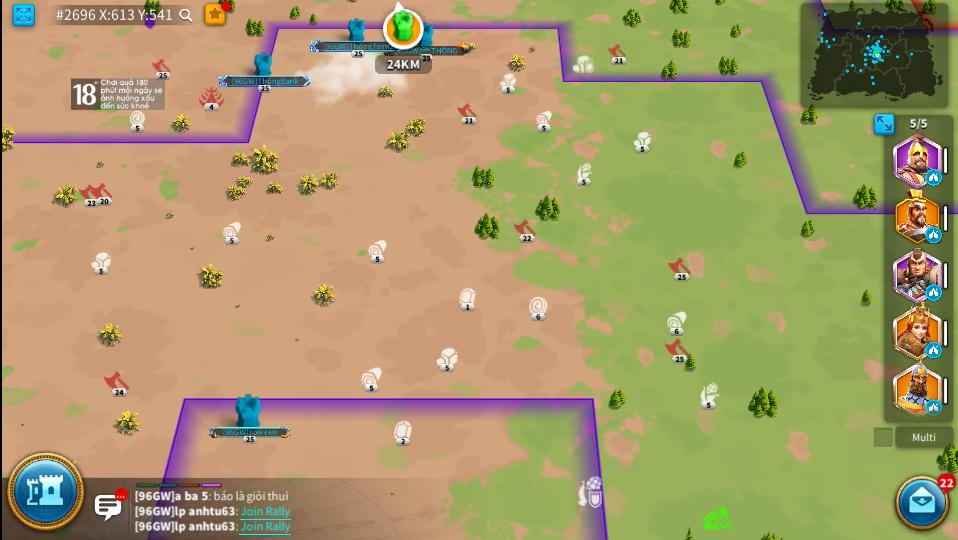gem-z-out: (393, 421, 413, 446), (460, 287, 475, 311)
march_idle: (925, 228, 942, 242), (926, 170, 940, 185), (927, 400, 941, 415), (926, 285, 940, 299), (928, 343, 940, 357)
